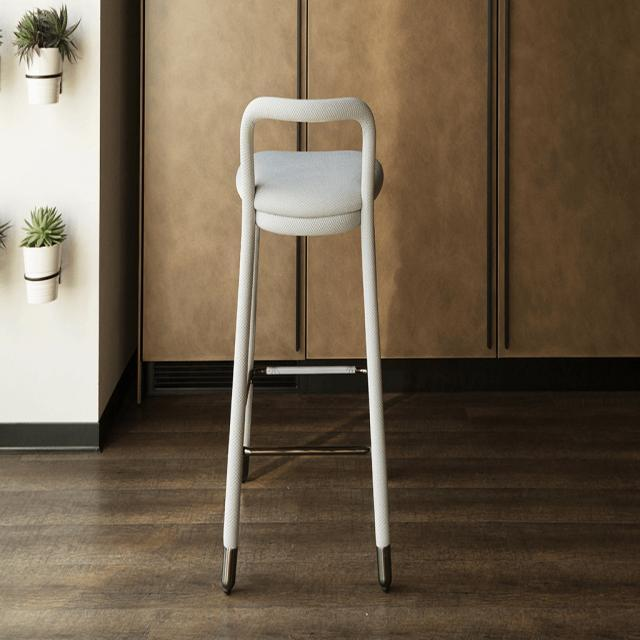chair: (215, 86, 398, 598), (228, 95, 387, 237)
